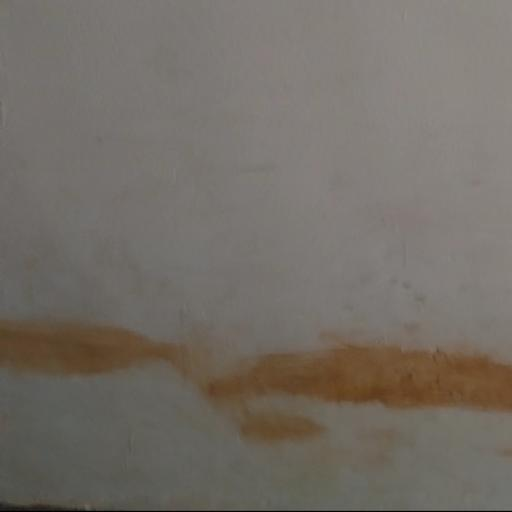stain: (0, 269, 512, 461)
